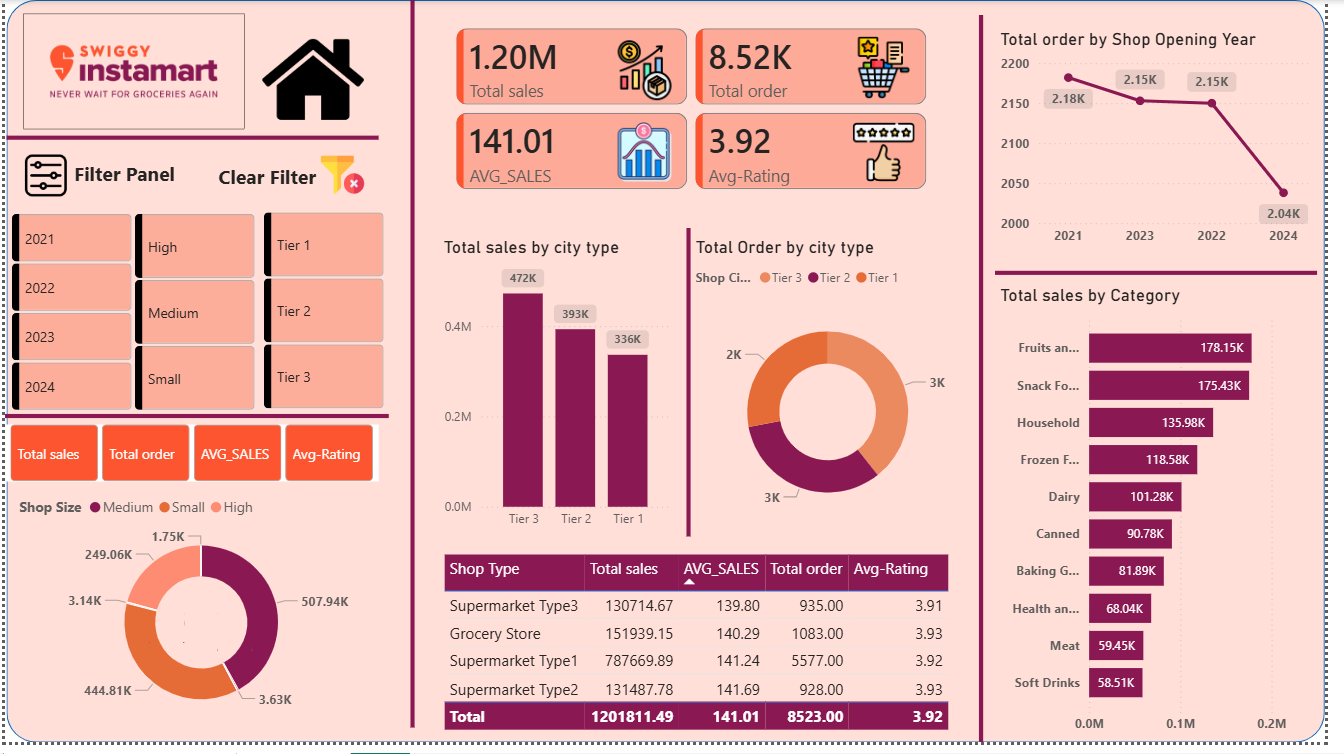

What the dashboard file says about the page in this screenshot:
{"tool":"powerbi","page":{"name":"Instamart Dashboard","canvas":[1280,720],"ordinal":0},"visuals":[{"type":"shape","box":[1.6,0,1279.2,720.6],"z":0},{"type":"image","box":[17.8,11.3,215.4,115],"z":1000},{"type":"cardVisual","fields":{"Data":["Grocery Shop.total sales","Grocery Shop.Total order","Grocery Shop.AVG_SALES","Grocery Shop.Avg-Rating"]},"box":[421,9.7,490.6,191.1],"z":2000},{"type":"advancedSlicerVisual","fields":{"Values":["metric.metric"]},"box":[0,411.3,362.7,55.1],"z":3000},{"type":"donutChart","fields":{"Y":["Grocery Shop.Total sales","Grocery Shop.Total order","Grocery Shop.AVG_SALES","Grocery Shop.Avg-Rating"],"Category":["Grocery Shop.Shop Size"]},"box":[8.1,471.2,362.7,234.8],"z":4000},{"type":"cardVisual","fields":{"Data":["Grocery Shop.Total sales","Grocery Shop.Total order","Grocery Shop.AVG_SALES","Grocery Shop.Avg-Rating"]},"box":[110.1,557,161.9,102],"z":5000},{"type":"clusteredColumnChart","title":"Total sales by city type ","fields":{"Category":["Grocery Shop.Shop City Type"],"Y":["Grocery Shop.Total sales"]},"box":[421,229.9,229.9,291.5],"z":6000},{"type":"donutChart","title":"Total Order by city type ","fields":{"Y":["Grocery Shop.Total order"],"Category":["Grocery Shop.Shop City Type"]},"box":[665.5,229.9,265.6,291.5],"z":7000},{"type":"tableEx","fields":{"Values":["Grocery Shop.Shop Type","Grocery Shop.Total sales","Grocery Shop.AVG_SALES","Grocery Shop.Total order","Grocery Shop.Avg-Rating"]},"box":[421,532.7,510.1,187.8],"z":8000},{"type":"lineChart","fields":{"Category":["Grocery Shop.Shop Opening Year"],"Y":["Grocery Shop.Total order"]},"box":[960.2,27.5,312.5,218.6],"z":9000},{"type":"clusteredBarChart","fields":{"Y":["Grocery Shop.Total sales"],"Category":["Grocery Shop.Category"]},"box":[960.2,276.9,312.5,443.7],"z":10000},{"type":"advancedSlicerVisual","fields":{"Values":["Grocery Shop.Shop Opening Year"]},"box":[2.2,201.9,126.3,197.5],"z":11000},{"type":"advancedSlicerVisual","fields":{"Values":["Grocery Shop.Shop Size"]},"box":[120.4,201.9,126.3,197.5],"z":12000},{"type":"advancedSlicerVisual","fields":{"Values":["Grocery Shop.Shop City Type"]},"box":[246.7,200.2,126.3,197.5],"z":13000},{"type":"textbox","box":[8.1,150.6,199.2,40.5],"z":14000},{"type":"image","box":[0,150.6,79.3,40.5],"z":15000},{"type":"textbox","box":[170,152.2,168.4,38.9],"z":16000},{"type":"image","box":[299.6,149,55.1,42.1],"z":17000},{"type":"image","box":[241.3,27.5,115,98.8],"z":18000},{"type":"shape","box":[1.6,115,361.1,37.2],"z":19000},{"type":"shape","box":[0,391.9,372.4,24.3],"z":20000},{"type":"shape","box":[370.8,0,48.6,706],"z":21000},{"type":"shape","box":[923,14.6,48.6,706],"z":22000},{"type":"shape","box":[923,14,48.6,706],"z":23000},{"type":"shape","box":[639.6,221.8,48.6,299.6],"z":24000},{"type":"shape","box":[960.2,115,312.5,299.6],"z":25000}]}

Visuals, with their boxes in screenshot pixels (x1, y1, x2, y2), scaled from the page's 1280x720 canvas onto the 1344x754 screenshot:
shape: locate(2, 0, 1343, 753)
image: locate(19, 12, 245, 132)
cardVisual - Grocery Shop.total sales x Grocery Shop.Total order: locate(442, 10, 957, 210)
advancedSlicerVisual - metric.metric: locate(0, 431, 381, 488)
donutChart - Grocery Shop.Total sales x Grocery Shop.Total order: locate(9, 493, 389, 739)
cardVisual - Grocery Shop.Total sales x Grocery Shop.Total order: locate(116, 583, 286, 690)
"Total sales by city type " clusteredColumnChart: locate(442, 241, 683, 546)
"Total Order by city type " donutChart: locate(699, 241, 978, 546)
tableEx - Grocery Shop.Shop Type x Grocery Shop.Total sales: locate(442, 558, 978, 753)
lineChart - Grocery Shop.Shop Opening Year x Grocery Shop.Total order: locate(1008, 29, 1336, 258)
clusteredBarChart - Grocery Shop.Total sales x Grocery Shop.Category: locate(1008, 290, 1336, 753)
advancedSlicerVisual - Grocery Shop.Shop Opening Year: locate(2, 211, 135, 418)
advancedSlicerVisual - Grocery Shop.Shop Size: locate(126, 211, 259, 418)
advancedSlicerVisual - Grocery Shop.Shop City Type: locate(259, 210, 392, 416)
textbox: locate(9, 158, 218, 200)
image: locate(0, 158, 83, 200)
textbox: locate(178, 159, 355, 200)
image: locate(315, 156, 372, 200)
image: locate(253, 29, 374, 132)
shape: locate(2, 120, 381, 159)
shape: locate(0, 410, 391, 436)
shape: locate(389, 0, 440, 739)
shape: locate(969, 15, 1020, 753)
shape: locate(969, 15, 1020, 753)
shape: locate(672, 232, 723, 546)
shape: locate(1008, 120, 1336, 434)
